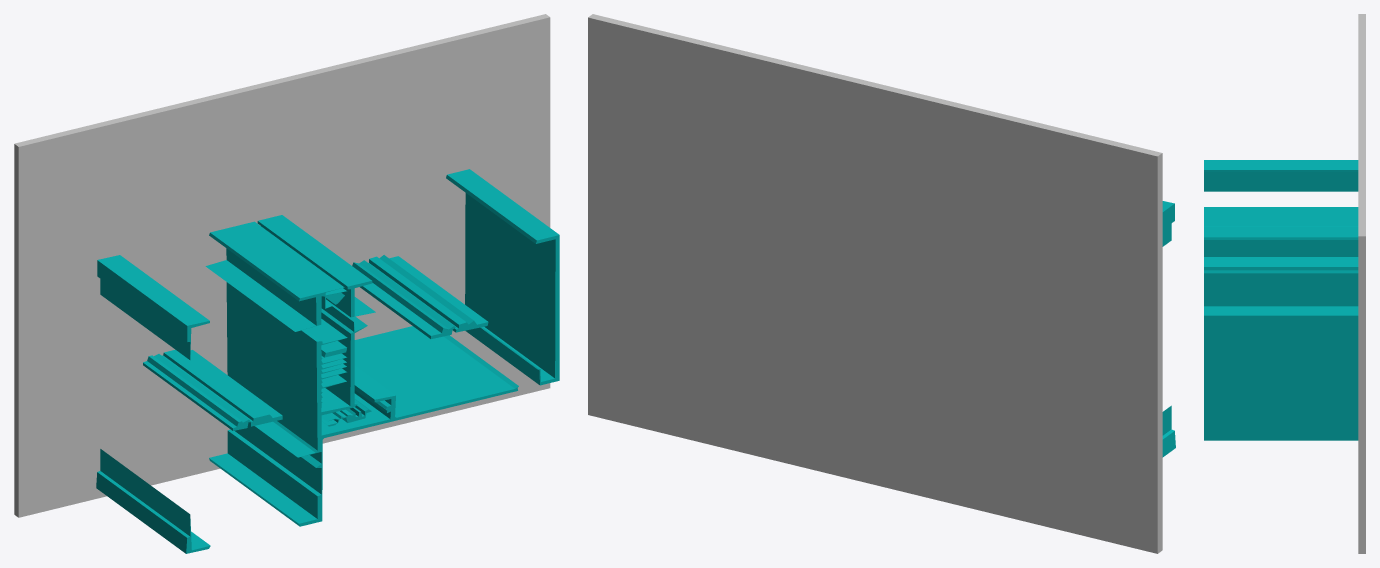
The picture shows the model from 3 angles, left to right: view 1: azimuth 30°, elevation 25°; view 2: azimuth 150°, elevation 25°; view 3: azimuth 270°, elevation 25°; orthographic projection. The views are drawn at different scales.
Parts seen in each view (by area): view 1: world; view 2: world; view 3: world.
Boxes of the visible parts, box(x1,y1,x2,y2) form: world: box(14, 14, 559, 553); world: box(588, 14, 1175, 553); world: box(1204, 14, 1365, 553).
Bounding box in the file's own units: 10.23 × 6.82 × 3.15.
